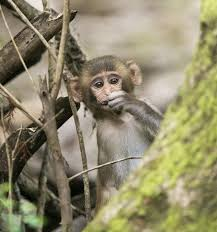monkey: (40, 33, 186, 181)
